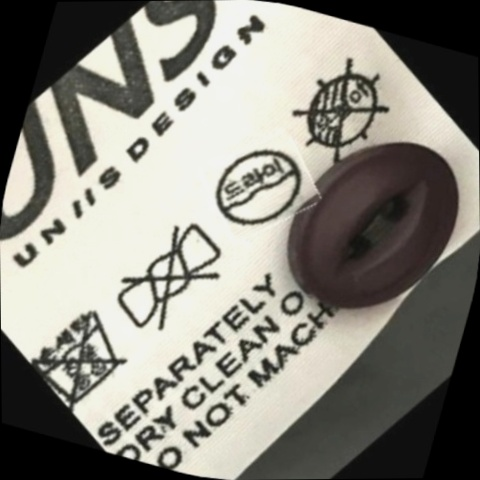DN_dry: (273, 42, 410, 180)
DN_wring: (93, 203, 246, 357)
dry_clean: (198, 125, 322, 251)
hand_wash: (17, 284, 149, 422)
